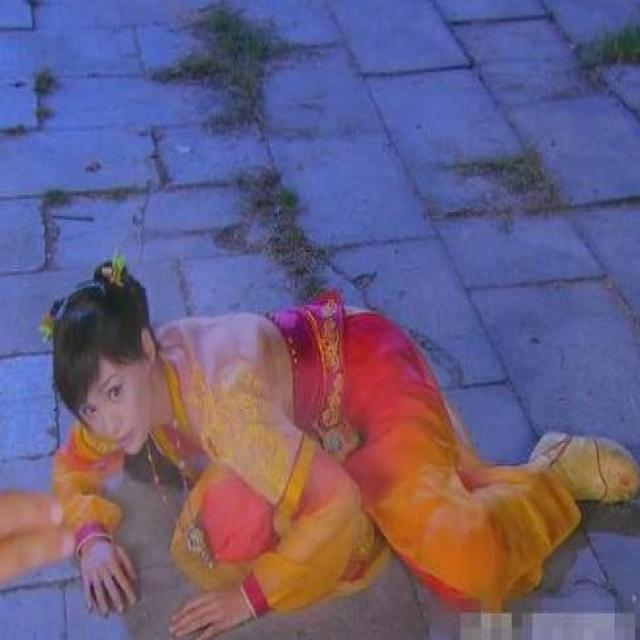fall: (56, 292, 572, 584)
